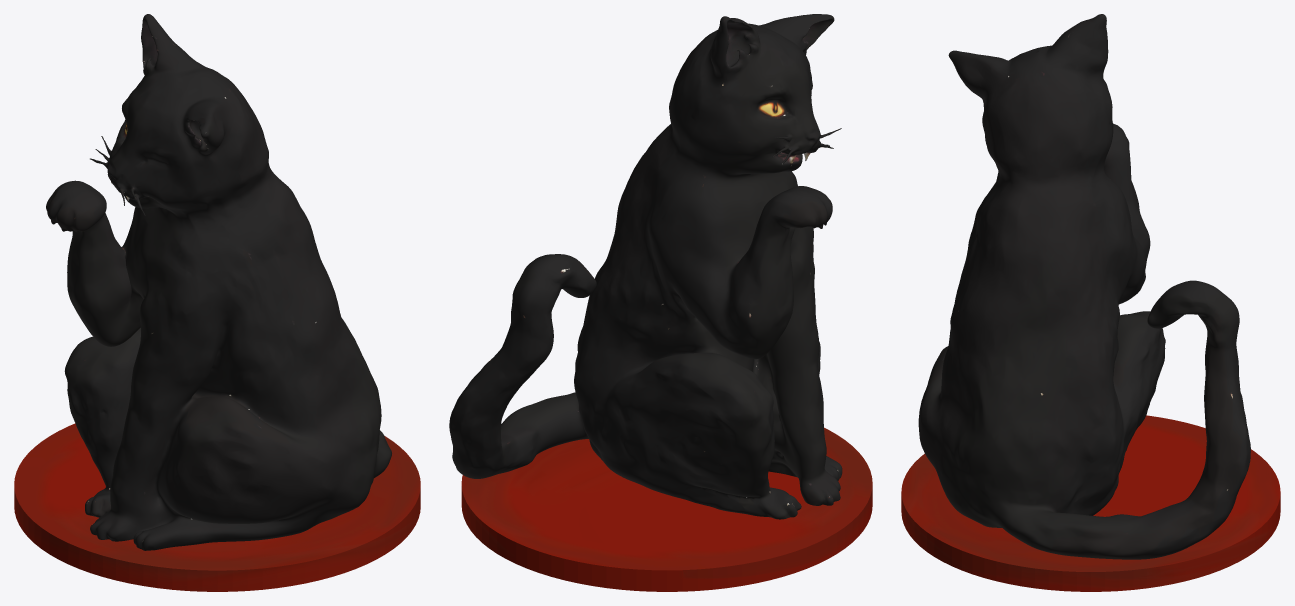
The model's file is reinaA.fbx.
The picture shows the model from 3 angles, left to right: view 1: azimuth 30°, elevation 25°; view 2: azimuth 150°, elevation 25°; view 3: azimuth 270°, elevation 25°; orthographic projection. The views are drawn at different scales.
Visible parts, largest first — view 1: Cube, base_Cylinder; view 2: Cube, base_Cylinder; view 3: Cube, base_Cylinder.
Boxes of the visible parts, x1=… form: Cube: x1=46, y1=14, x2=391, y2=550; base_Cylinder: x1=14, y1=423, x2=420, y2=591; Cube: x1=449, y1=14, x2=842, y2=519; base_Cylinder: x1=461, y1=427, x2=872, y2=591; Cube: x1=918, y1=14, x2=1250, y2=559; base_Cylinder: x1=901, y1=415, x2=1280, y2=591.
Size of the model in its own units: 325 by 444 by 325.
2 materials, 2 textured.
